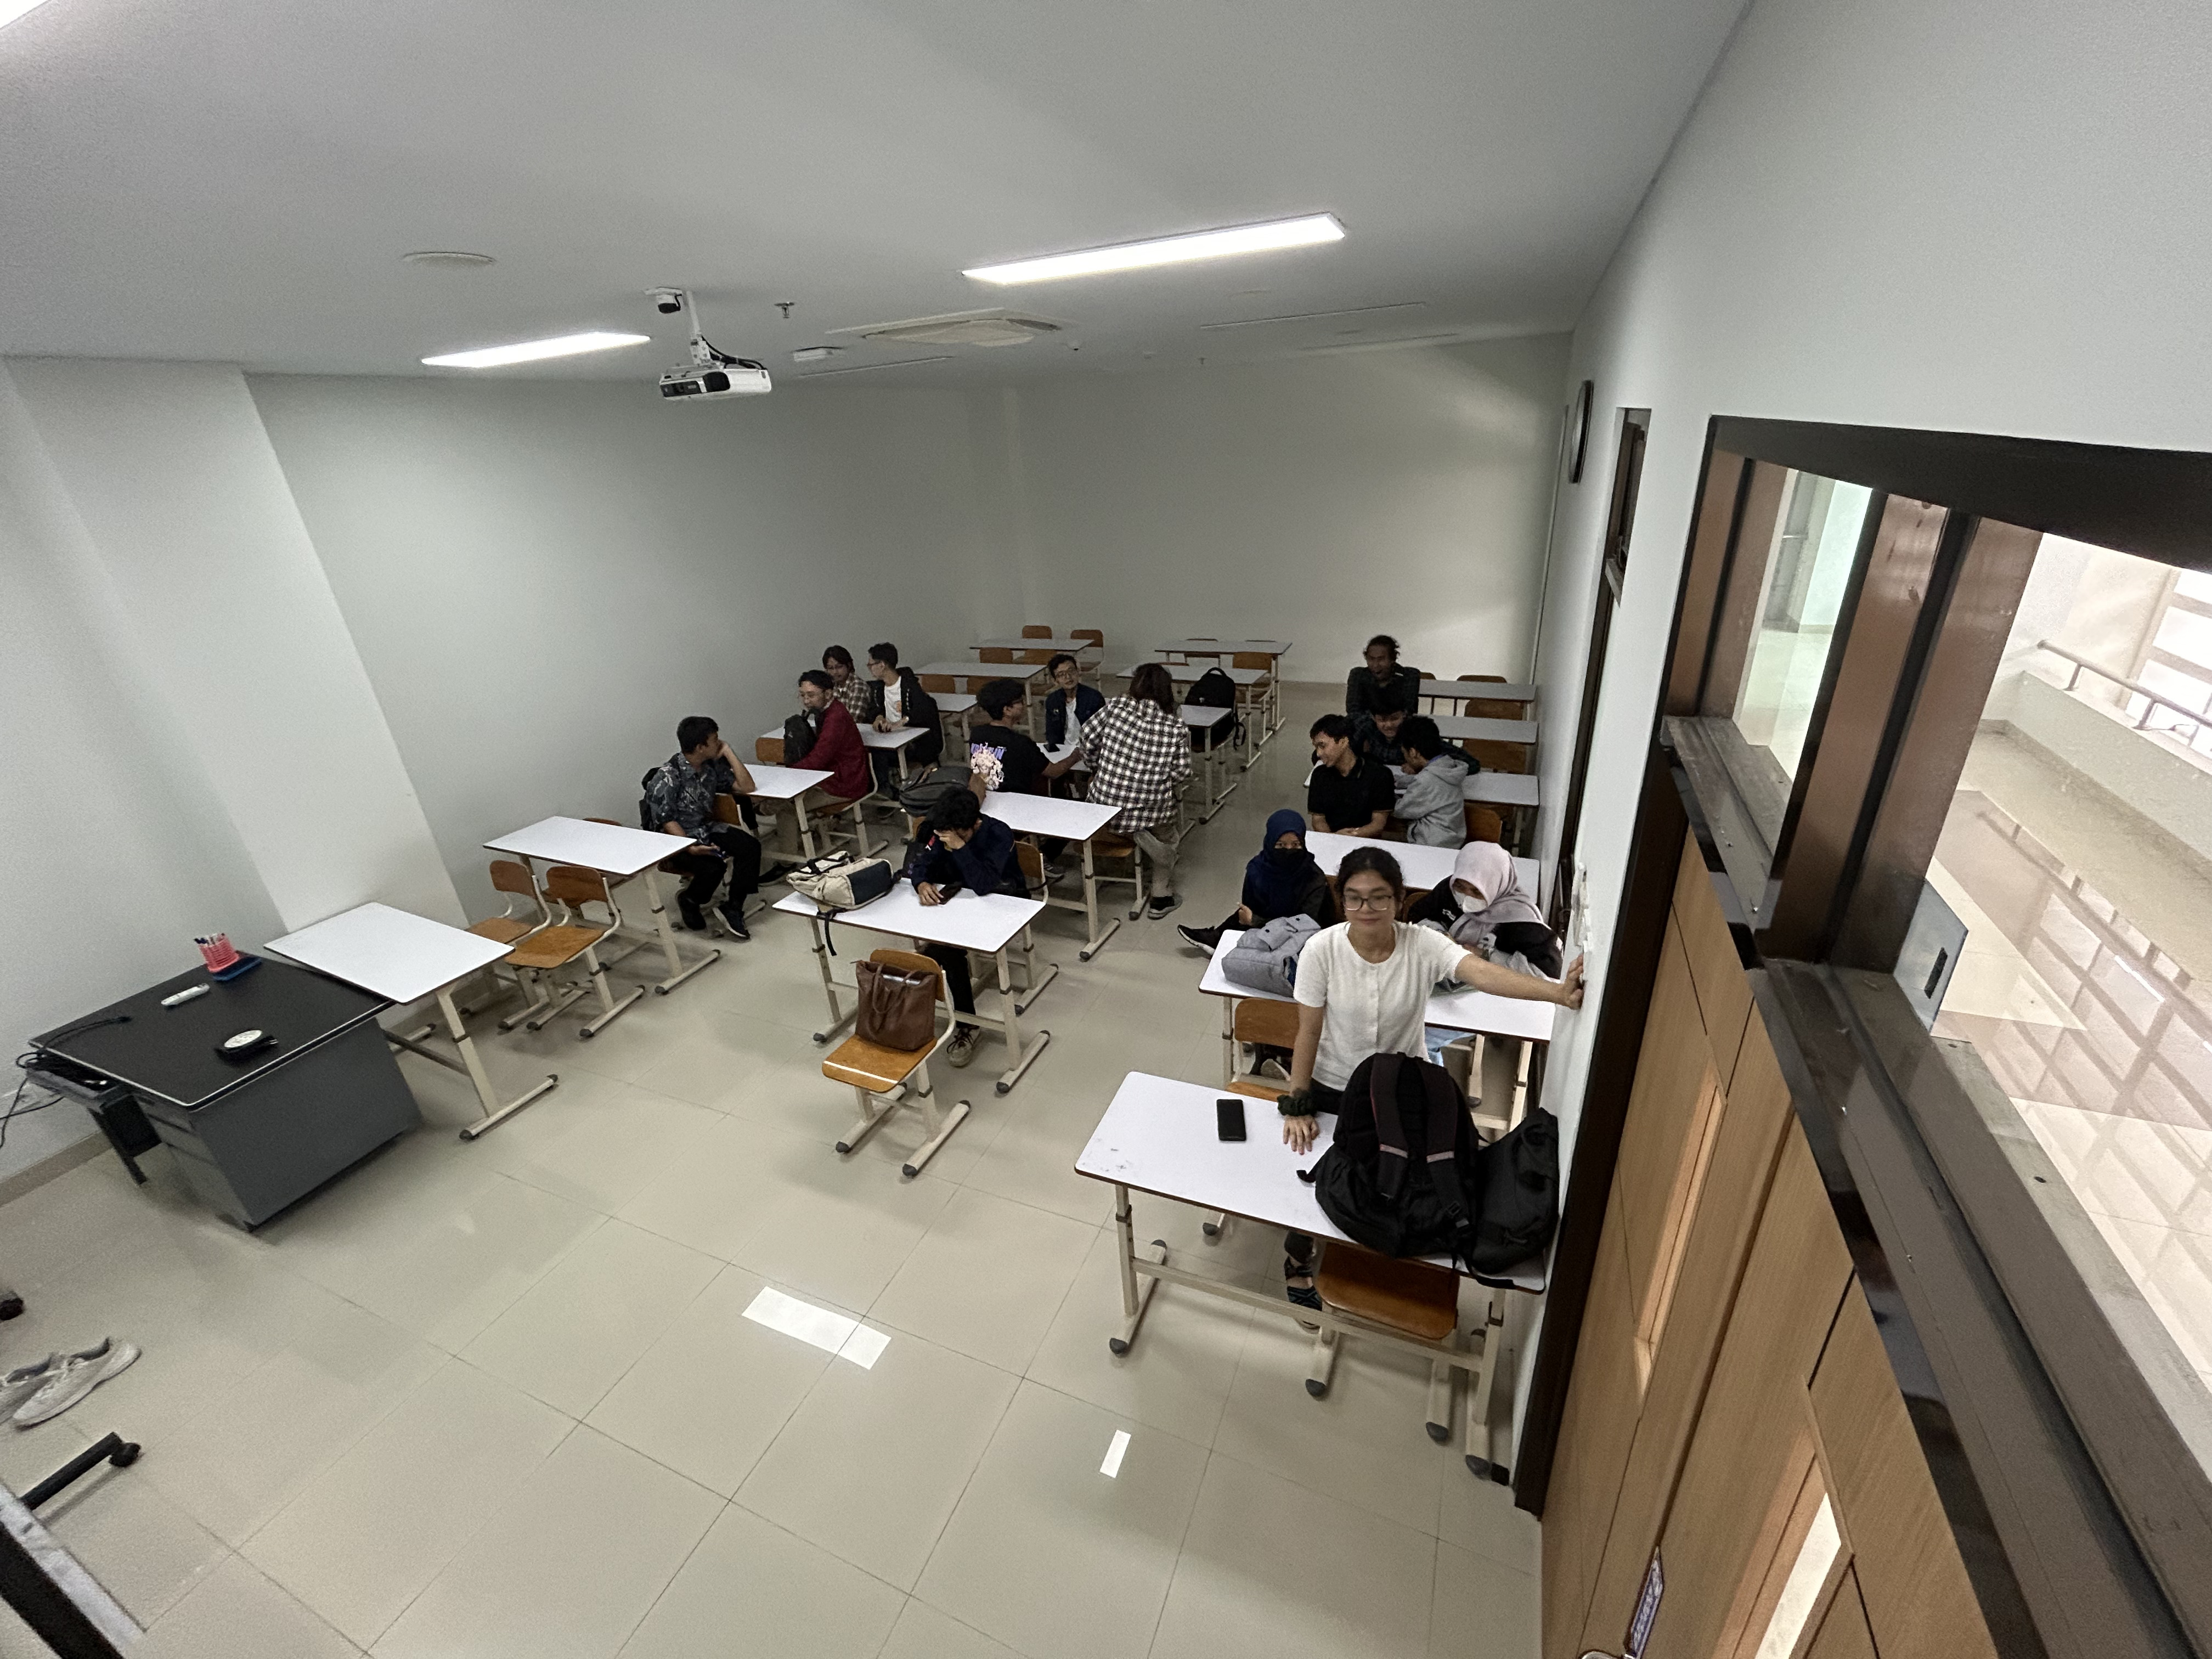person: (1338, 848, 1403, 938), (932, 788, 981, 844), (975, 675, 1027, 723), (1446, 861, 1492, 915), (1266, 808, 1306, 868), (1310, 714, 1351, 770), (1398, 719, 1441, 775), (676, 714, 723, 763), (1127, 665, 1175, 715), (798, 669, 836, 714), (1368, 698, 1406, 739), (1364, 636, 1398, 679), (866, 642, 898, 681), (1047, 654, 1081, 690), (822, 645, 856, 682)
